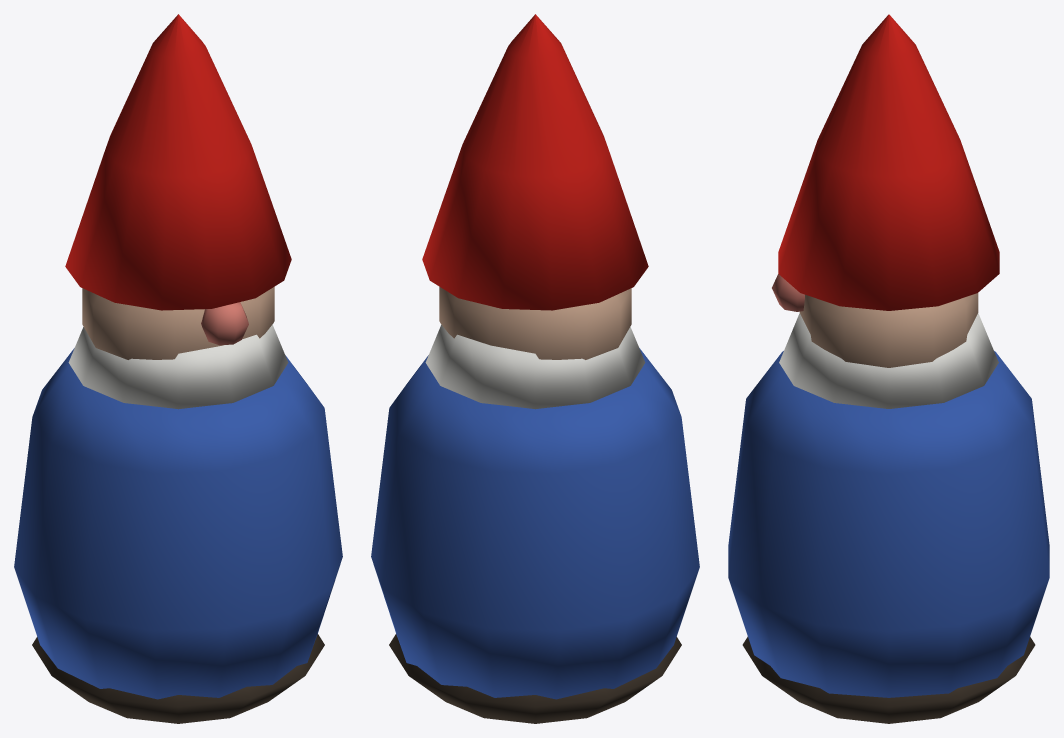
Rendered from garden_gnome.glb.
3 renders of one model, left to right at view 1: azimuth 30°, elevation 25°; view 2: azimuth 150°, elevation 25°; view 3: azimuth 270°, elevation 25°, orthographic.
Parts seen in each view (by area): view 1: garden_gnome; view 2: garden_gnome; view 3: garden_gnome.
Boxes of the visible parts, x1=… form: garden_gnome: x1=14, y1=14, x2=342, y2=723; garden_gnome: x1=371, y1=14, x2=699, y2=723; garden_gnome: x1=728, y1=14, x2=1049, y2=723.
Size of the model in its own units: 0.252 by 0.574 by 0.2457.
